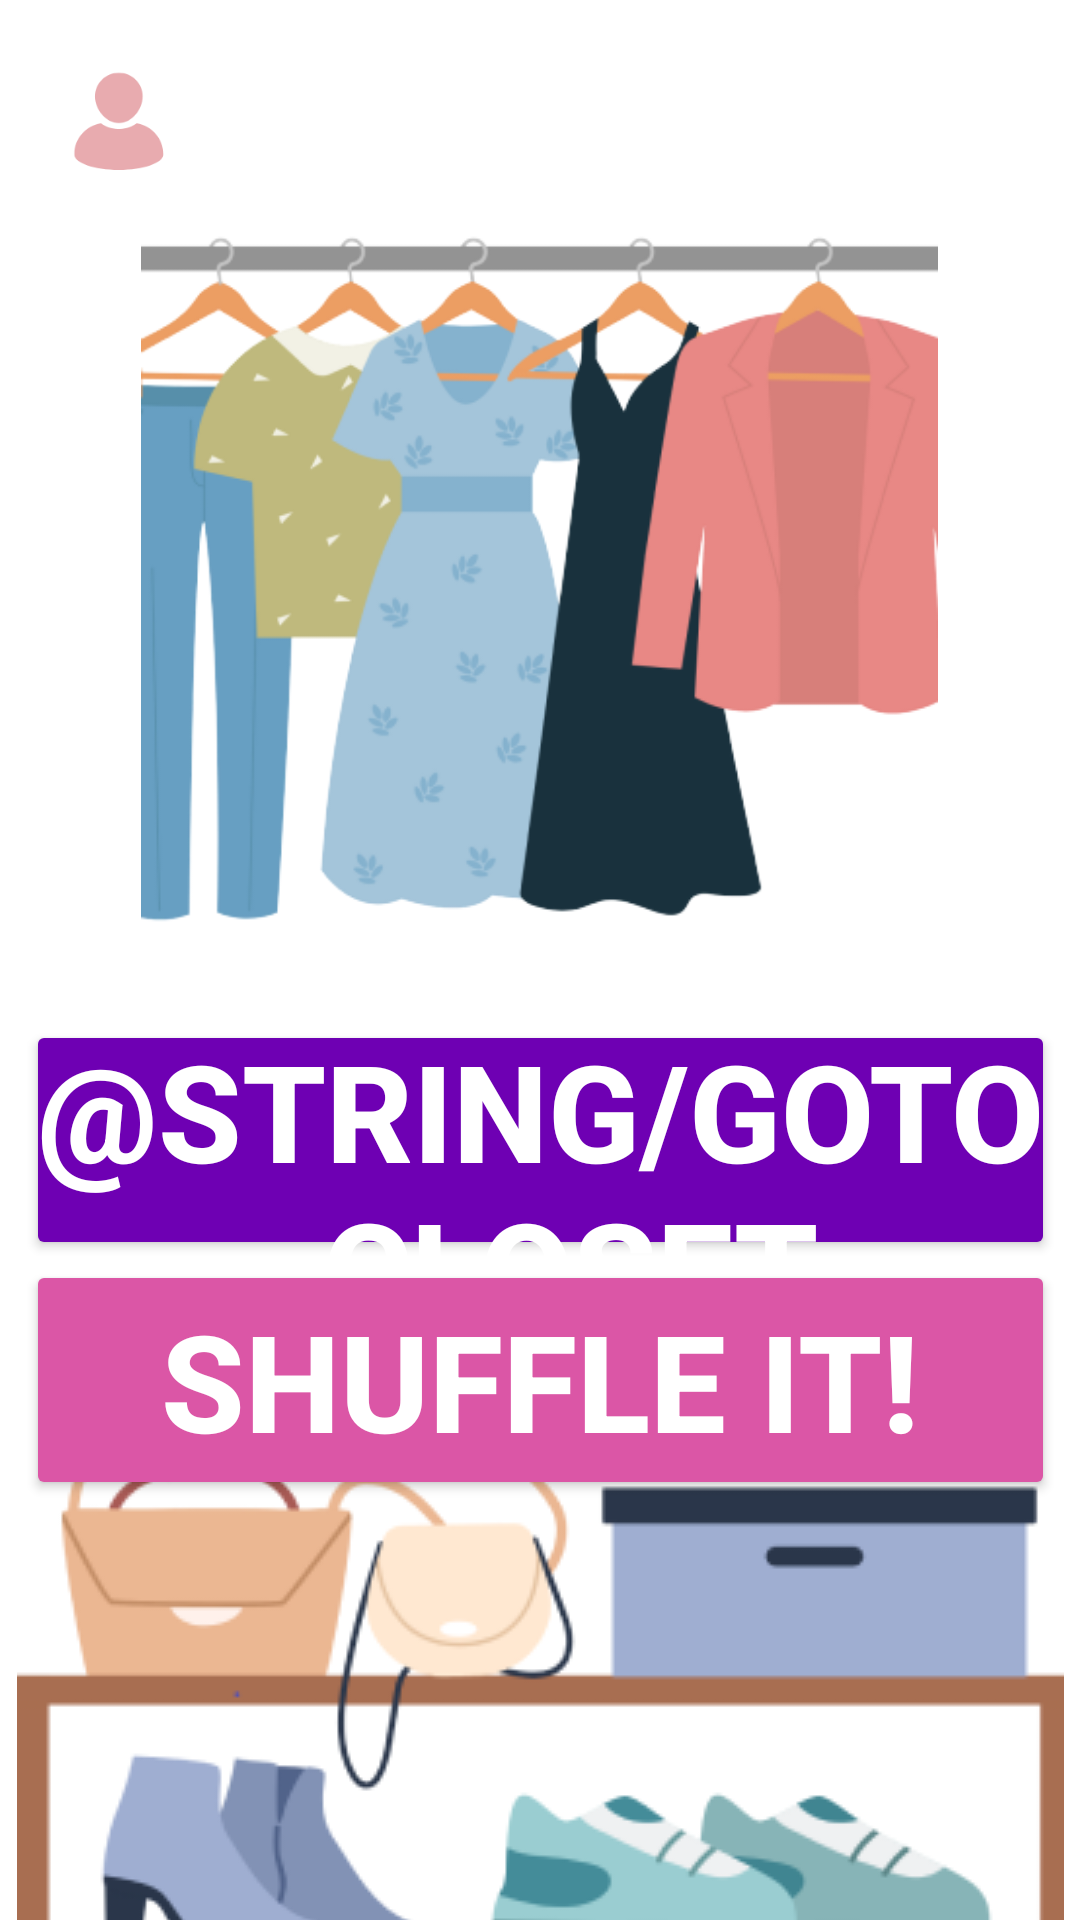

Where icons sit on this 1080×1920 app screen, as (x1, y1, x2, y2):
Profile Icon: (74, 73, 163, 170)
